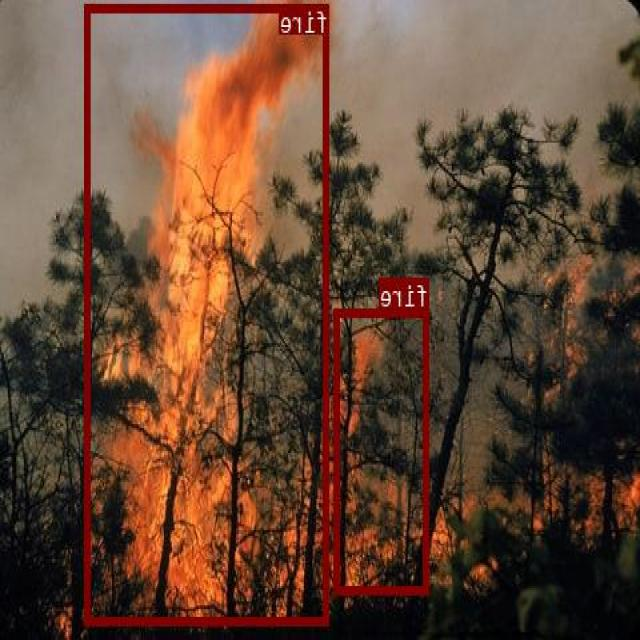fire: (86, 3, 330, 624), (335, 307, 430, 592)
